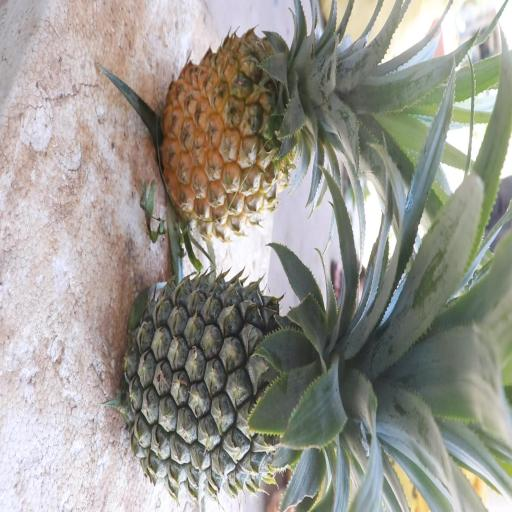Pineapple - v8 v1: (157, 18, 415, 218)
